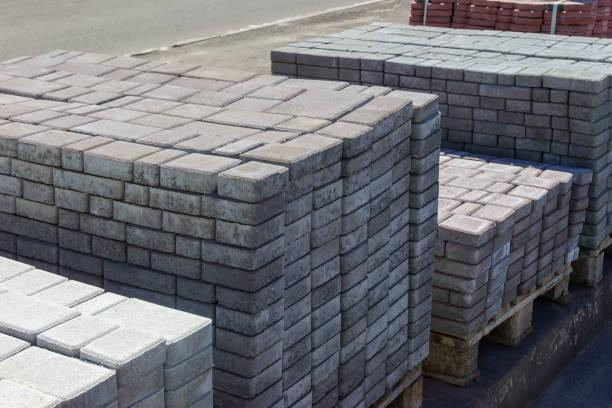Bricks: (97, 295, 215, 340), (0, 283, 80, 335), (160, 150, 237, 197), (199, 187, 288, 224), (269, 88, 370, 120), (33, 312, 116, 349), (202, 256, 283, 293), (250, 141, 324, 181), (217, 165, 288, 205), (211, 321, 285, 359), (203, 239, 283, 274), (88, 328, 161, 366), (104, 260, 179, 295), (213, 341, 284, 377), (288, 175, 342, 221), (208, 216, 288, 247), (217, 275, 282, 313), (215, 361, 281, 398), (35, 277, 107, 310), (350, 98, 413, 135), (166, 322, 213, 371), (218, 303, 285, 335), (0, 210, 59, 246), (321, 122, 378, 158), (55, 167, 119, 199), (223, 128, 295, 156), (80, 118, 164, 142), (118, 342, 168, 382), (285, 160, 345, 193), (7, 272, 68, 304), (87, 137, 161, 163), (163, 352, 211, 392), (207, 106, 294, 128), (179, 119, 259, 142), (121, 368, 164, 407), (297, 134, 348, 166), (368, 143, 411, 180), (160, 215, 220, 240), (149, 249, 197, 279), (173, 375, 219, 406), (221, 159, 292, 179), (64, 383, 121, 407), (436, 270, 493, 294), (483, 193, 530, 222), (80, 215, 132, 241), (436, 257, 492, 281), (56, 249, 105, 276), (226, 74, 283, 97), (23, 126, 88, 146), (153, 187, 198, 215), (377, 121, 412, 157), (0, 76, 66, 95), (126, 228, 170, 256), (283, 351, 313, 391), (184, 66, 258, 82), (479, 206, 517, 237), (443, 224, 499, 245), (434, 298, 485, 321), (343, 143, 378, 175), (15, 235, 56, 262), (163, 101, 224, 119), (143, 131, 200, 150), (87, 154, 132, 178), (20, 141, 61, 167), (145, 83, 204, 101), (169, 74, 231, 91), (312, 334, 342, 369), (15, 199, 57, 224), (91, 106, 151, 123), (281, 319, 310, 354), (126, 97, 189, 113), (312, 297, 343, 329), (282, 374, 312, 407), (444, 211, 489, 233), (517, 175, 560, 198), (314, 315, 343, 349), (491, 247, 525, 276), (511, 186, 550, 211), (76, 295, 120, 317), (58, 74, 118, 90), (54, 185, 87, 214), (313, 351, 340, 386), (304, 243, 340, 269), (11, 158, 50, 182), (310, 255, 340, 286), (284, 296, 312, 329), (313, 279, 341, 312), (335, 263, 367, 291), (179, 90, 238, 105), (343, 297, 369, 331), (93, 237, 127, 263), (342, 329, 367, 364), (451, 282, 489, 305), (343, 161, 371, 192), (342, 207, 373, 235), (341, 244, 369, 275), (311, 370, 339, 401), (141, 147, 184, 167), (366, 208, 392, 241), (541, 169, 574, 195), (134, 113, 191, 128), (176, 134, 223, 152), (314, 198, 344, 226), (363, 243, 391, 273), (340, 349, 367, 380), (342, 226, 368, 258), (411, 198, 440, 226), (410, 150, 440, 177), (345, 185, 371, 216), (285, 277, 310, 309), (68, 133, 118, 149), (45, 84, 95, 100), (386, 90, 439, 105), (74, 89, 123, 105), (341, 316, 370, 343), (283, 338, 309, 368), (58, 61, 118, 74), (60, 228, 95, 250), (99, 78, 147, 94), (231, 97, 282, 112), (288, 212, 314, 241), (342, 279, 367, 309), (282, 115, 326, 132), (388, 192, 412, 223), (368, 259, 391, 291), (368, 277, 391, 309), (342, 363, 365, 395), (546, 79, 607, 91), (251, 87, 303, 101), (312, 224, 341, 249), (45, 114, 96, 128), (175, 237, 207, 259), (385, 360, 407, 392), (542, 216, 569, 242), (369, 223, 389, 258), (118, 207, 159, 224), (413, 246, 437, 275), (365, 331, 388, 361), (446, 245, 492, 260), (413, 217, 439, 243), (284, 262, 311, 287), (131, 72, 179, 86), (363, 363, 386, 392), (183, 284, 218, 303), (281, 79, 347, 89), (1, 103, 42, 119), (413, 279, 434, 310), (414, 183, 440, 208), (135, 164, 162, 188), (416, 168, 440, 195), (543, 203, 570, 227), (390, 155, 413, 183), (411, 312, 432, 342), (389, 327, 410, 357), (368, 295, 389, 325), (310, 386, 340, 407), (154, 61, 199, 75), (388, 296, 412, 322), (287, 234, 310, 261), (18, 109, 65, 122), (389, 176, 413, 201), (386, 345, 408, 372), (3, 254, 30, 276), (415, 135, 443, 156), (389, 226, 410, 254), (413, 294, 433, 323), (411, 326, 431, 354), (391, 210, 410, 239), (479, 88, 534, 98), (409, 341, 430, 367), (484, 161, 523, 175), (21, 183, 52, 200), (368, 315, 388, 341), (106, 55, 149, 67), (391, 278, 410, 305), (448, 178, 487, 191), (477, 126, 523, 137), (418, 117, 442, 138), (493, 237, 511, 265), (373, 171, 393, 196), (366, 380, 386, 405), (389, 261, 408, 287), (447, 158, 488, 170), (298, 66, 339, 78), (452, 199, 482, 215), (478, 170, 518, 182), (367, 349, 385, 375), (128, 81, 161, 95), (299, 54, 337, 66), (390, 313, 408, 338), (412, 236, 435, 255), (414, 103, 438, 121), (484, 181, 514, 195), (137, 59, 166, 73), (464, 71, 495, 84), (446, 95, 477, 108), (66, 103, 106, 113), (494, 229, 513, 250), (392, 247, 409, 270), (520, 260, 537, 283), (106, 69, 145, 79), (574, 132, 606, 144), (414, 266, 434, 285), (500, 110, 525, 125), (489, 273, 508, 292), (370, 193, 390, 211), (128, 247, 150, 263), (364, 83, 391, 96), (575, 108, 610, 118), (572, 121, 607, 131), (535, 103, 566, 114), (506, 271, 522, 292), (539, 239, 554, 261), (60, 208, 80, 224), (402, 76, 431, 87), (594, 156, 609, 177), (595, 167, 610, 188), (462, 189, 490, 200), (447, 118, 475, 129), (89, 198, 107, 215), (488, 287, 505, 305), (62, 150, 78, 169), (508, 259, 524, 278), (537, 251, 553, 270), (528, 114, 553, 126), (517, 138, 542, 150), (387, 62, 414, 73), (448, 83, 477, 93), (526, 232, 541, 251), (449, 129, 470, 142), (516, 215, 532, 232), (572, 148, 606, 156), (513, 231, 528, 249), (551, 115, 570, 129), (361, 70, 384, 81), (128, 187, 146, 201), (530, 125, 551, 137), (529, 220, 542, 239), (344, 85, 368, 95), (554, 232, 569, 248), (520, 166, 540, 178), (569, 96, 603, 103), (544, 197, 557, 215), (525, 247, 537, 266), (475, 110, 494, 122), (592, 193, 606, 209), (594, 205, 607, 222), (273, 51, 293, 62), (364, 60, 384, 71), (554, 242, 566, 260), (515, 76, 542, 84), (482, 99, 506, 108), (595, 182, 608, 198), (435, 69, 460, 77), (450, 110, 475, 118), (342, 59, 361, 69), (383, 74, 399, 85), (343, 70, 359, 81), (508, 102, 529, 110), (532, 210, 543, 225), (416, 66, 432, 76), (559, 192, 570, 206), (551, 93, 567, 102), (553, 140, 567, 150), (476, 135, 496, 142), (274, 67, 293, 74), (571, 213, 584, 223), (432, 79, 444, 89), (578, 173, 590, 183), (576, 187, 588, 197), (558, 131, 570, 140), (500, 137, 515, 144), (497, 77, 510, 85), (578, 198, 587, 209), (536, 91, 546, 100), (571, 226, 582, 233)
